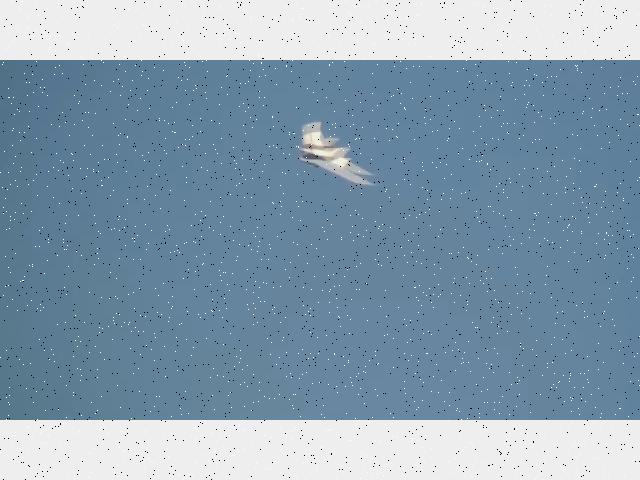Anti-Drone: (298, 122, 378, 185)
